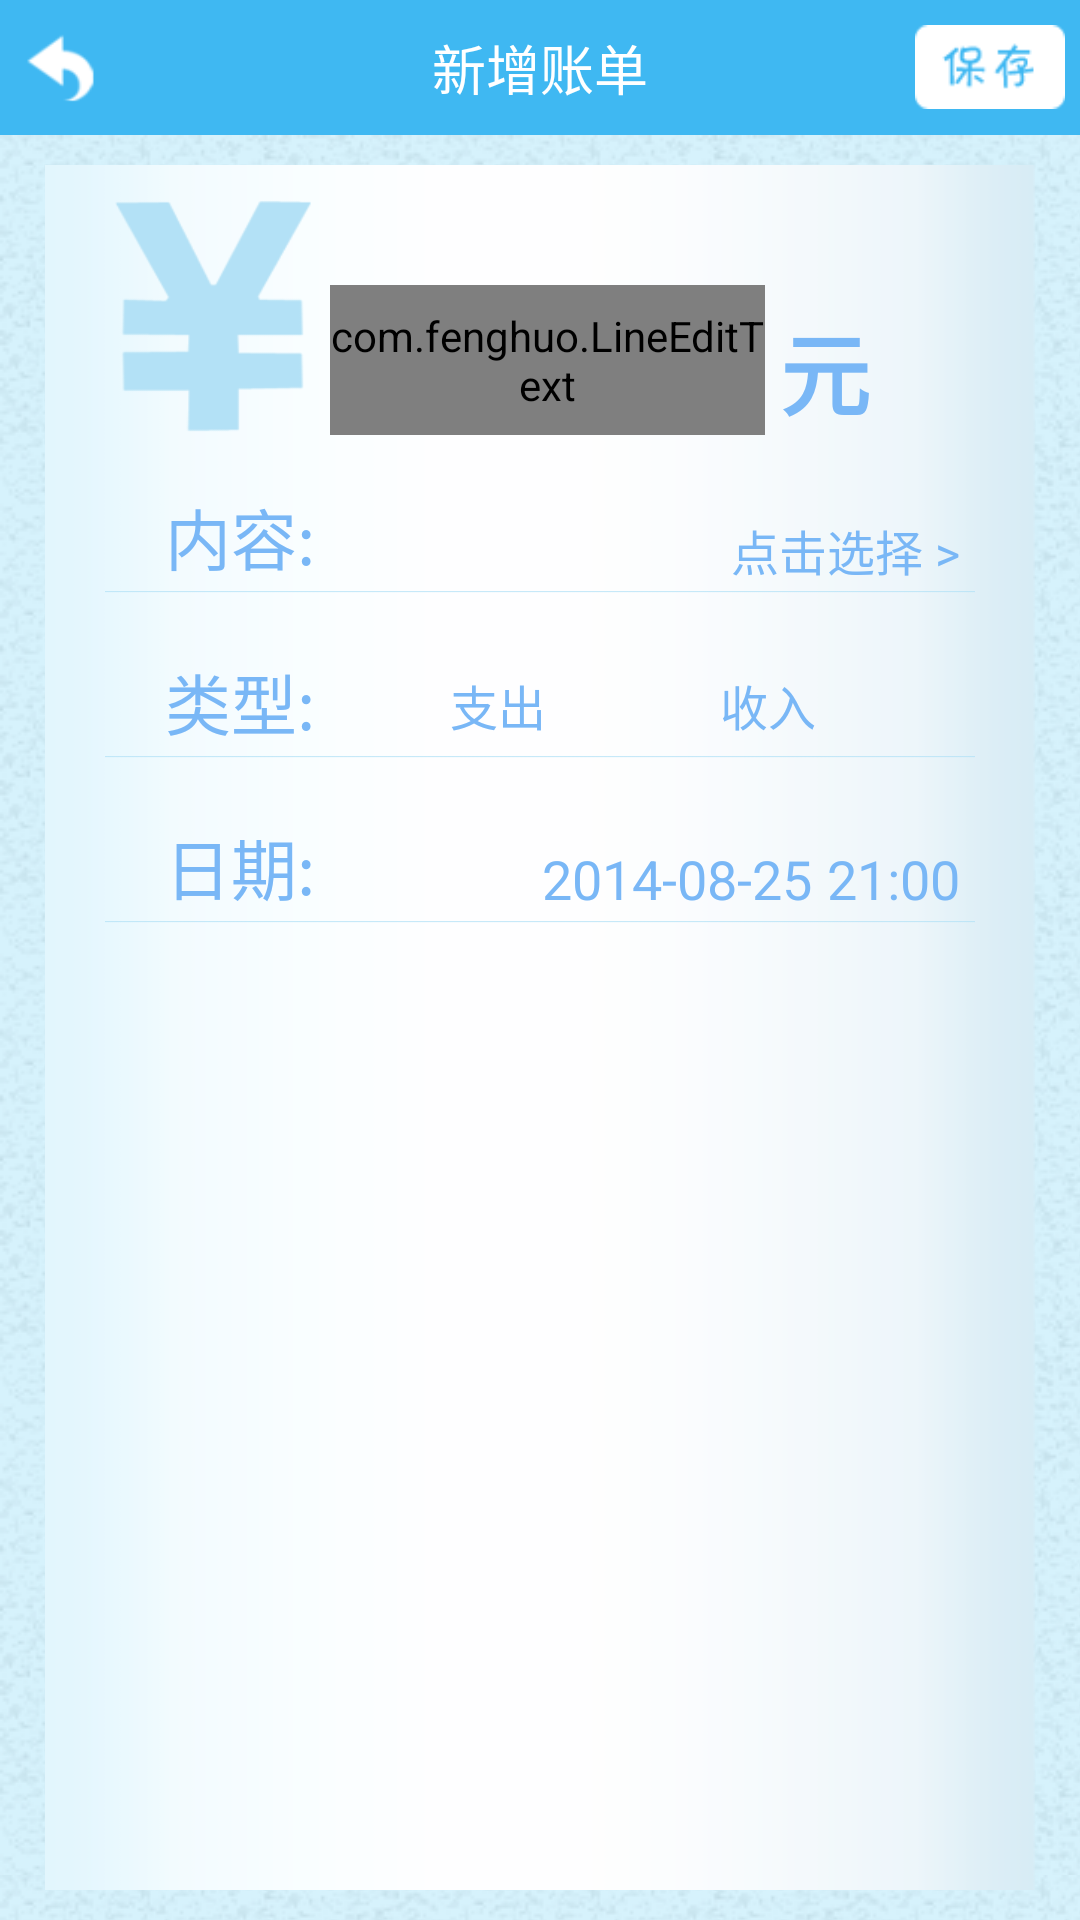

Screen size 1080×1920. Icon name, then its box in pixels as {"left": x1, "top": y1, "right": x2, "bottom": y2}:
money: {"left": 116, "top": 201, "right": 311, "bottom": 431}
select back: {"left": 27, "top": 35, "right": 94, "bottom": 101}
